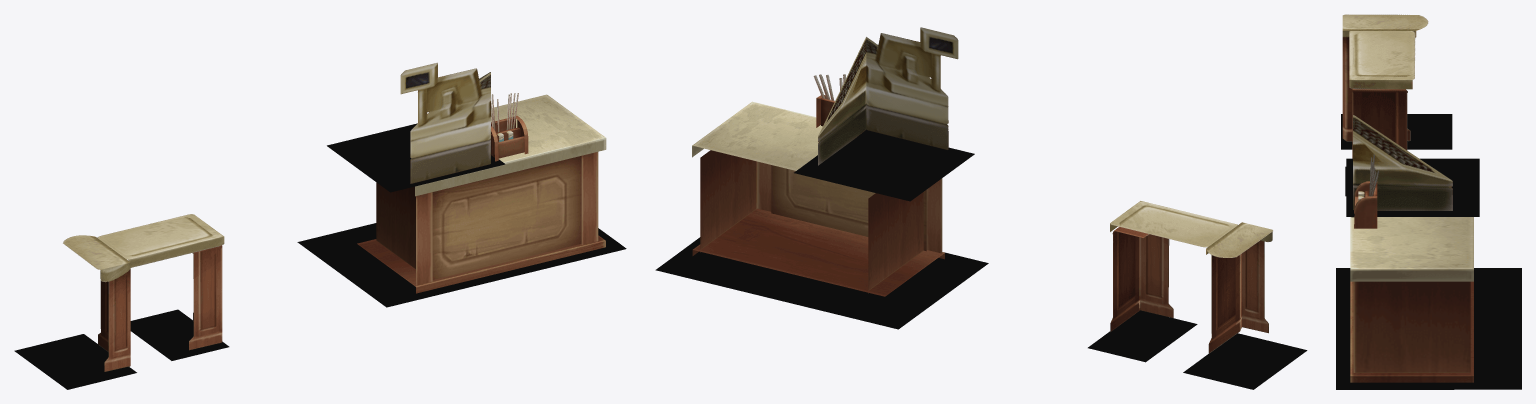
The model's file is K1_oldcashregister.FBX.
3 renders of one model, left to right at view 1: azimuth 30°, elevation 25°; view 2: azimuth 150°, elevation 25°; view 3: azimuth 270°, elevation 25°, orthographic. The views are drawn at different scales.
Parts seen in each view (by area): view 1: oldbreakfasttable003, oldcashregister6_02, oldbreakfasttable003_yy, counterdoor_00, counterdoor_02, cc_oldcashregister6_yy, counterdoor_yy_00, counterdoor_01, counterdoor_yy_01, oldcashregister6_01, oldcashregister6_00; view 2: oldbreakfasttable003, oldcashregister6_02, oldbreakfasttable003_yy, cc_oldcashregister6_yy, counterdoor_00, counterdoor_01, counterdoor_yy_00, counterdoor_02, counterdoor_yy_01; view 3: oldbreakfasttable003, oldbreakfasttable003_yy, oldcashregister6_02, counterdoor_02, cc_oldcashregister6_yy, counterdoor_00, counterdoor_01, counterdoor_yy_00, oldcashregister6_01, oldcashregister6_00.
Boxes of the visible parts, x1,y1,x2,y2 form: oldbreakfasttable003: (357,94,606,293); oldcashregister6_02: (400,62,490,183); oldbreakfasttable003_yy: (297,223,626,307); counterdoor_00: (63,235,130,371); counterdoor_02: (97,214,224,267); cc_oldcashregister6_yy: (327,123,505,192); counterdoor_yy_00: (14,334,136,389); counterdoor_01: (189,245,222,350); counterdoor_yy_01: (130,309,229,360); oldcashregister6_01: (491,115,528,161); oldcashregister6_00: (491,93,518,141); oldbreakfasttable003: (692,101,944,296); oldcashregister6_02: (818,27,958,165); oldbreakfasttable003_yy: (655,237,988,329); cc_oldcashregister6_yy: (794,129,974,201); counterdoor_00: (1206,222,1272,353); counterdoor_01: (1110,227,1173,331); counterdoor_yy_00: (1183,333,1307,389); counterdoor_02: (1110,201,1237,247); counterdoor_yy_01: (1088,310,1197,362); oldbreakfasttable003: (1350,217,1473,382); oldbreakfasttable003_yy: (1336,268,1521,389); oldcashregister6_02: (1353,48,1452,210); counterdoor_02: (1349,31,1415,89); cc_oldcashregister6_yy: (1346,158,1479,217); counterdoor_00: (1342,14,1428,141); counterdoor_01: (1352,88,1407,158); counterdoor_yy_00: (1341,114,1452,149); oldcashregister6_01: (1354,181,1377,228); oldcashregister6_00: (1358,154,1379,200).
Bounding box in the file's own units: 214 × 84.95 × 59.48.
